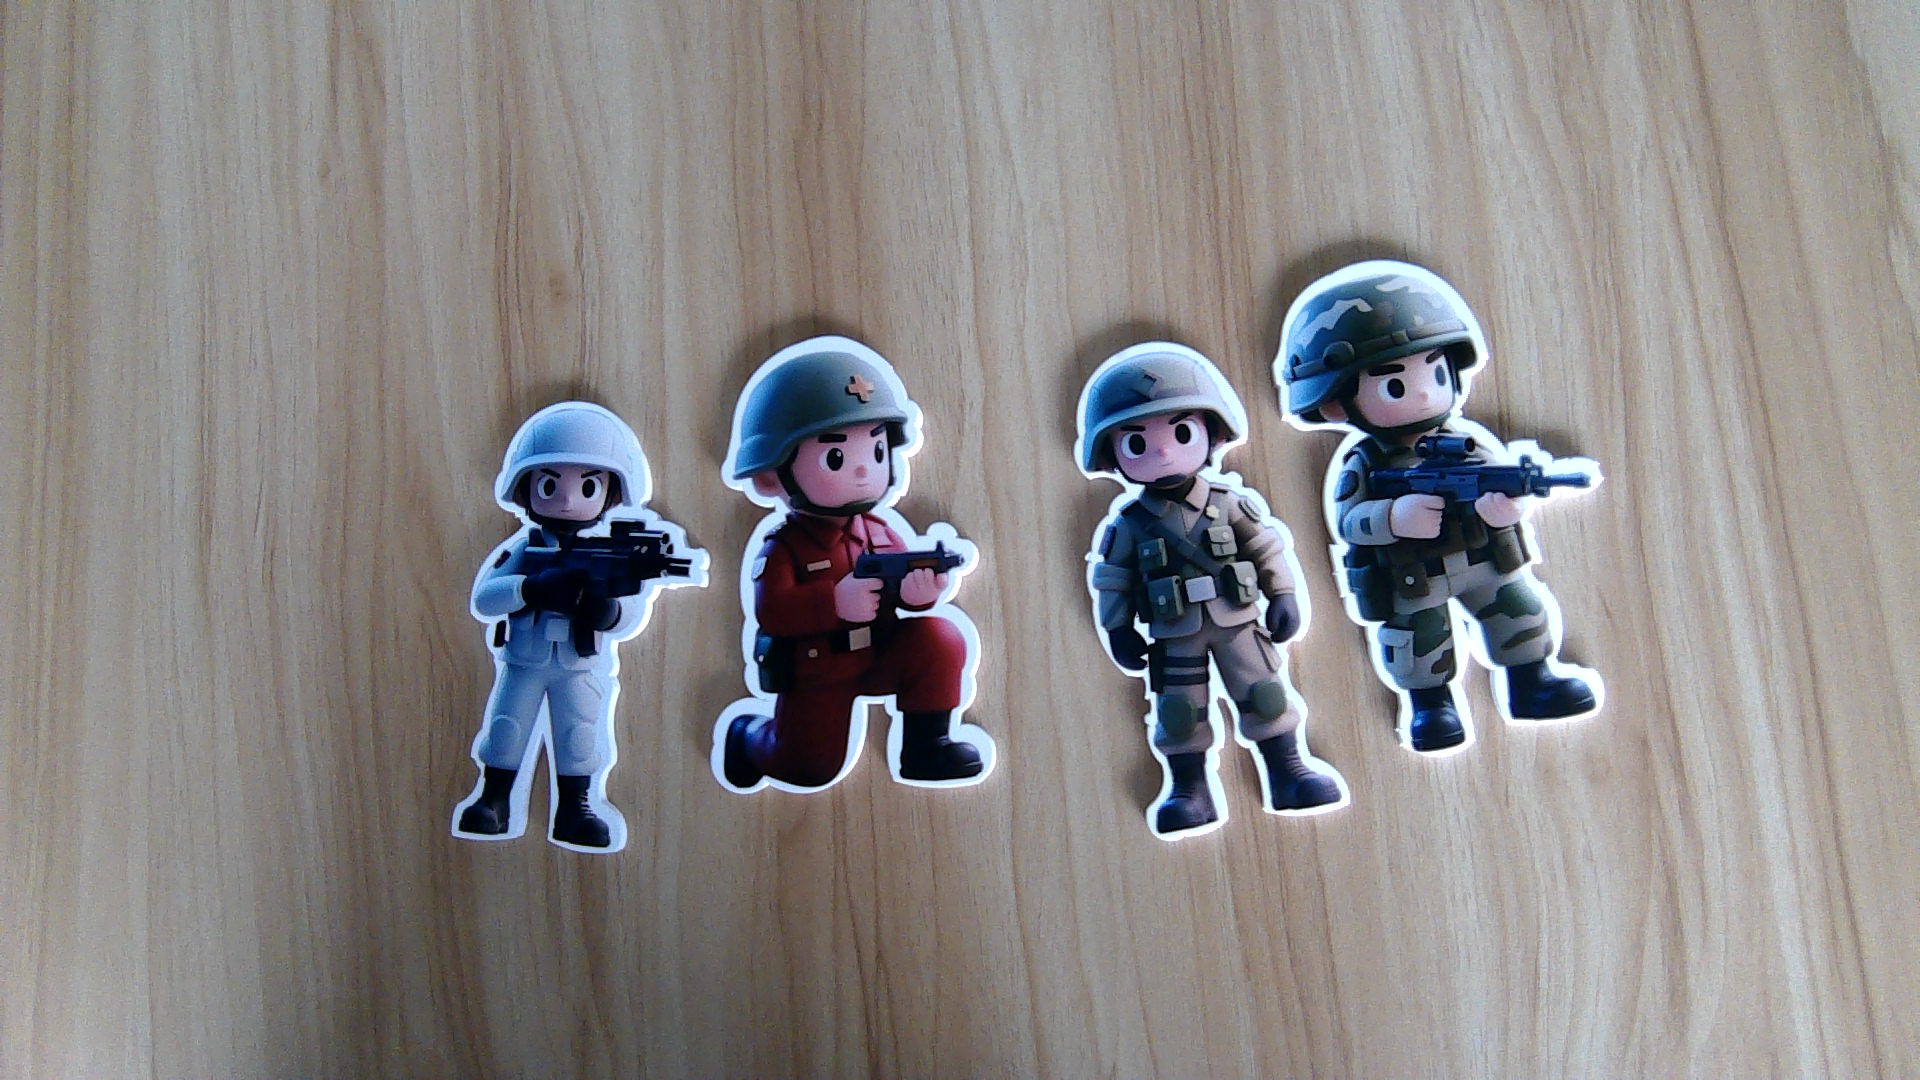人质: (446, 520, 695, 855)
友军: (1313, 438, 1646, 760), (1069, 483, 1352, 843)
敌人1: (709, 522, 1007, 800)
